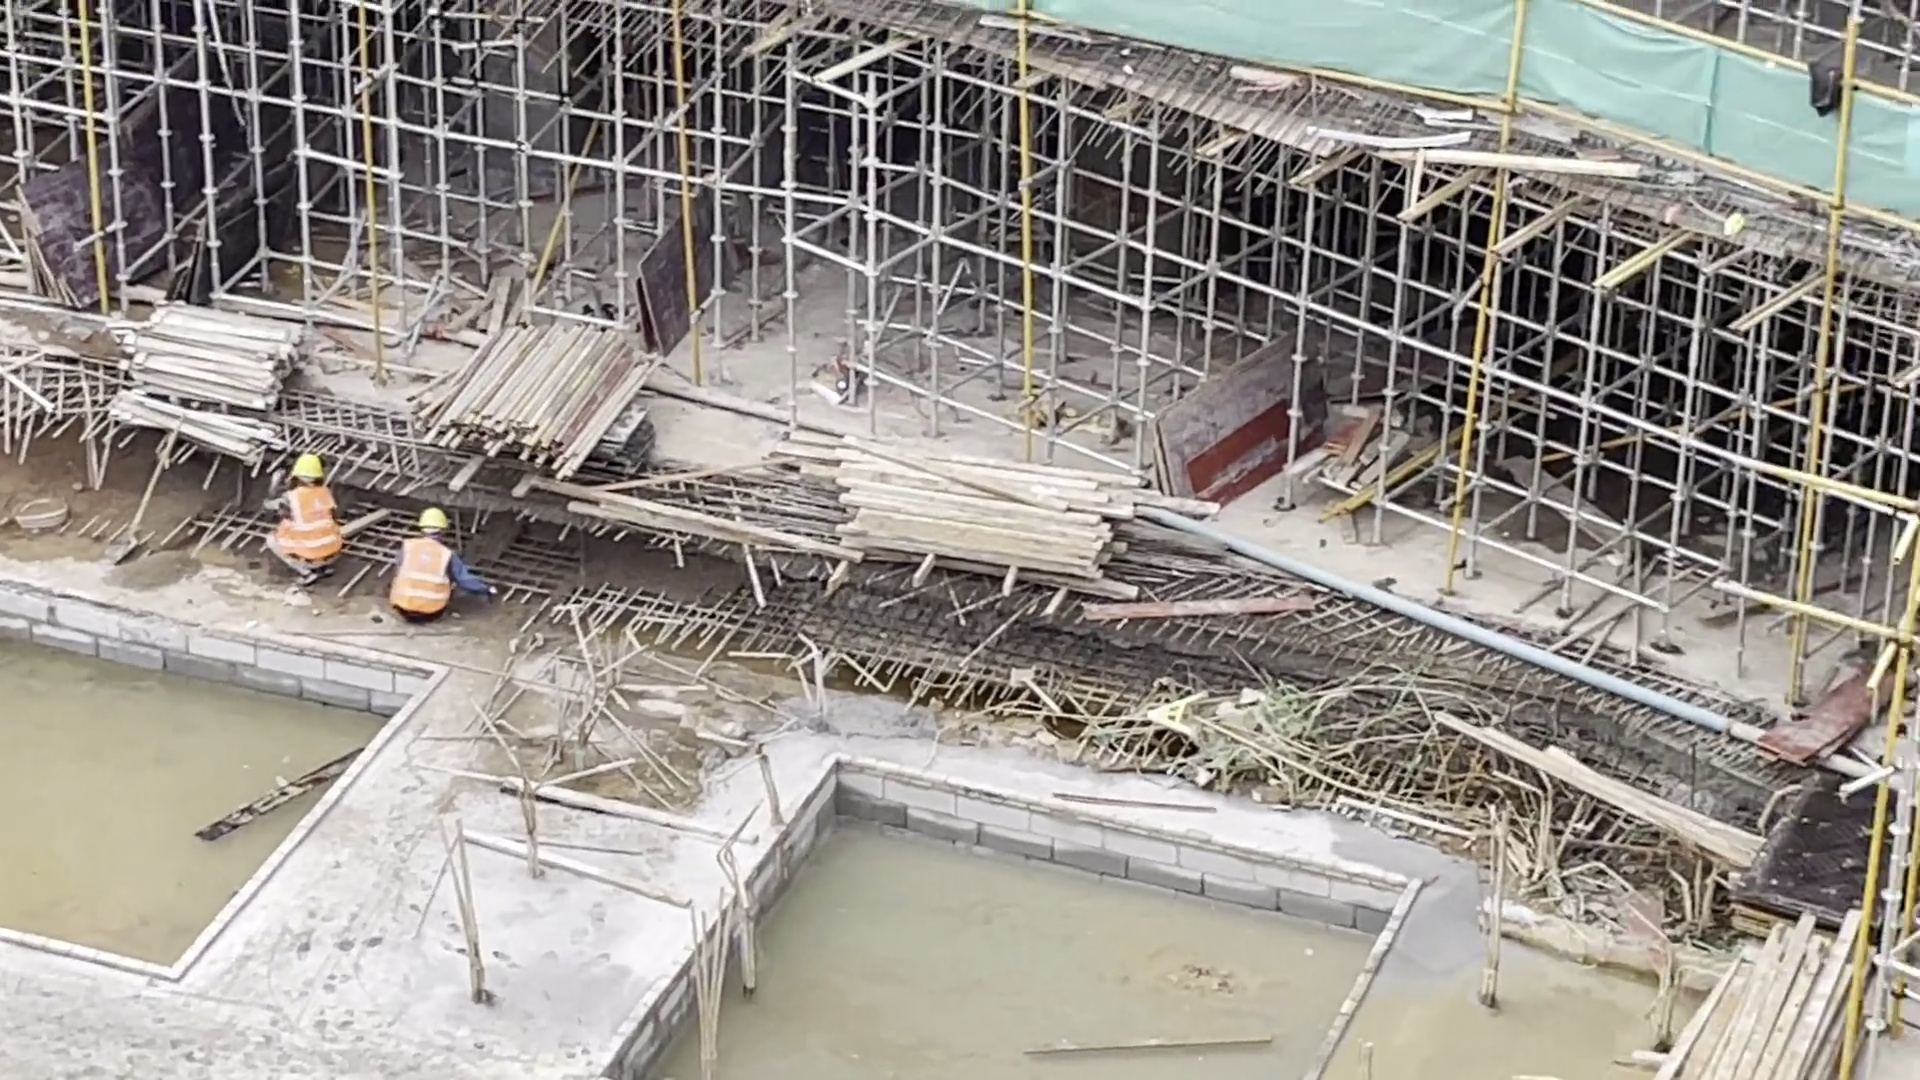helmet: (288, 451, 326, 481), (418, 507, 452, 533)
person: (380, 499, 506, 619), (262, 446, 348, 585)
vest: (268, 481, 344, 568), (388, 536, 455, 623)
